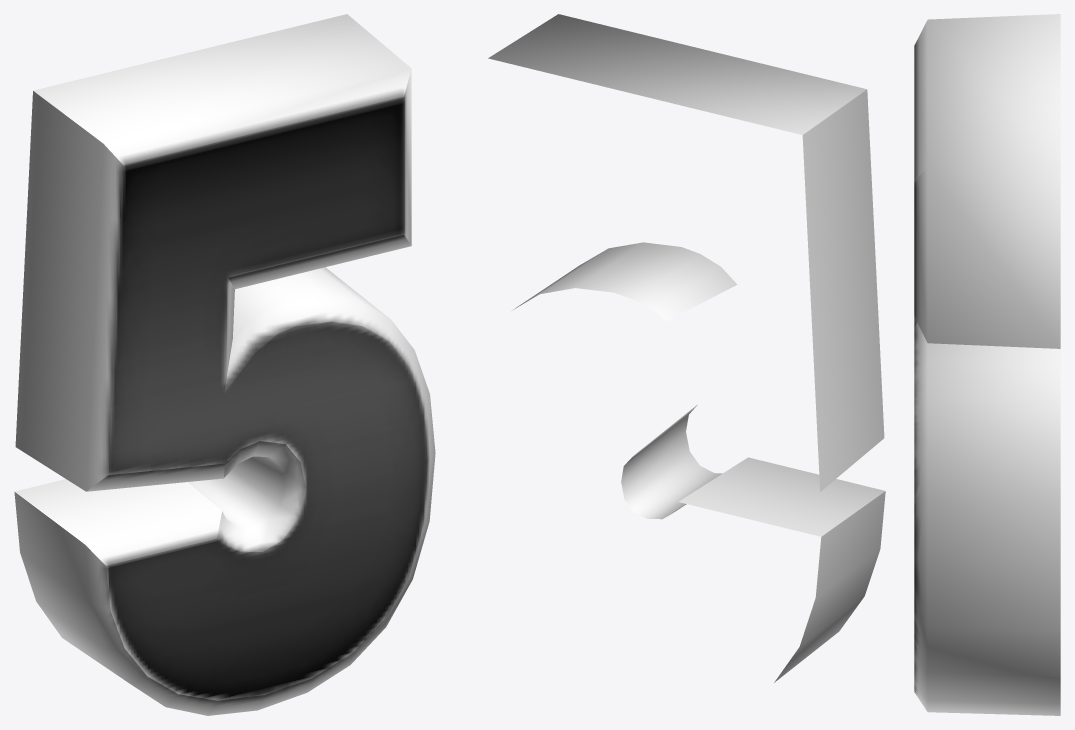
The model's file is bbl_score_model__score_5b.glb.
The picture shows the model from 3 angles, left to right: view 1: azimuth 30°, elevation 25°; view 2: azimuth 150°, elevation 25°; view 3: azimuth 270°, elevation 25°; orthographic projection.
Parts seen in each view (by area): view 1: polygon1, polygon0; view 2: polygon0; view 3: polygon0.
Part boxes in pixels (x1,y1,x2,y2): polygon1: [106, 97, 427, 700]; polygon0: [14, 14, 435, 715]; polygon0: [488, 14, 885, 682]; polygon0: [914, 14, 1060, 715].
Size of the model in its own units: 3.05 by 5.01 by 1.1.
Materials: 2 (2 with a texture image).
